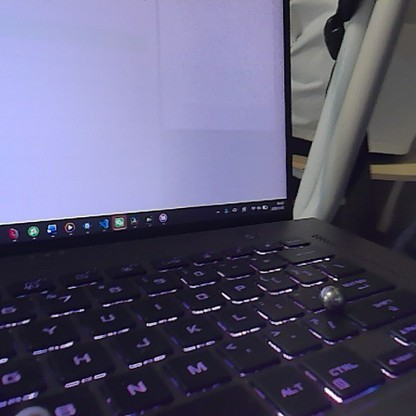ironball: (316, 282, 345, 312)
